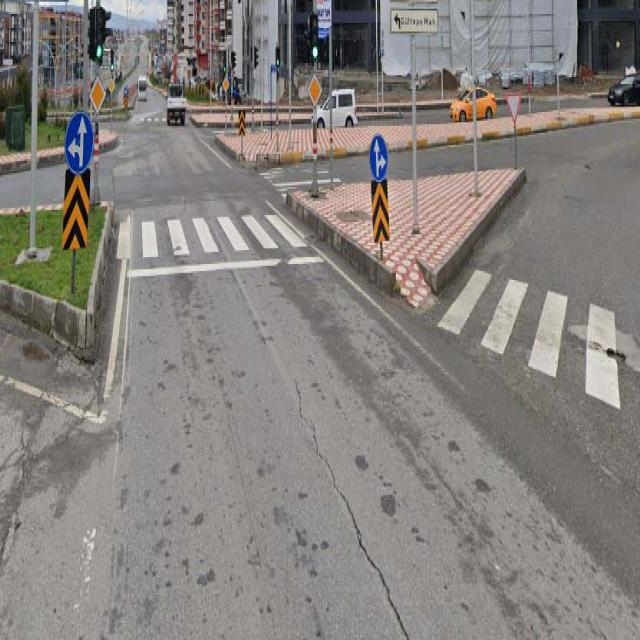ilerisag: (370, 134, 387, 177)
ilerisol: (64, 110, 96, 177)
yesil: (96, 6, 104, 66)
